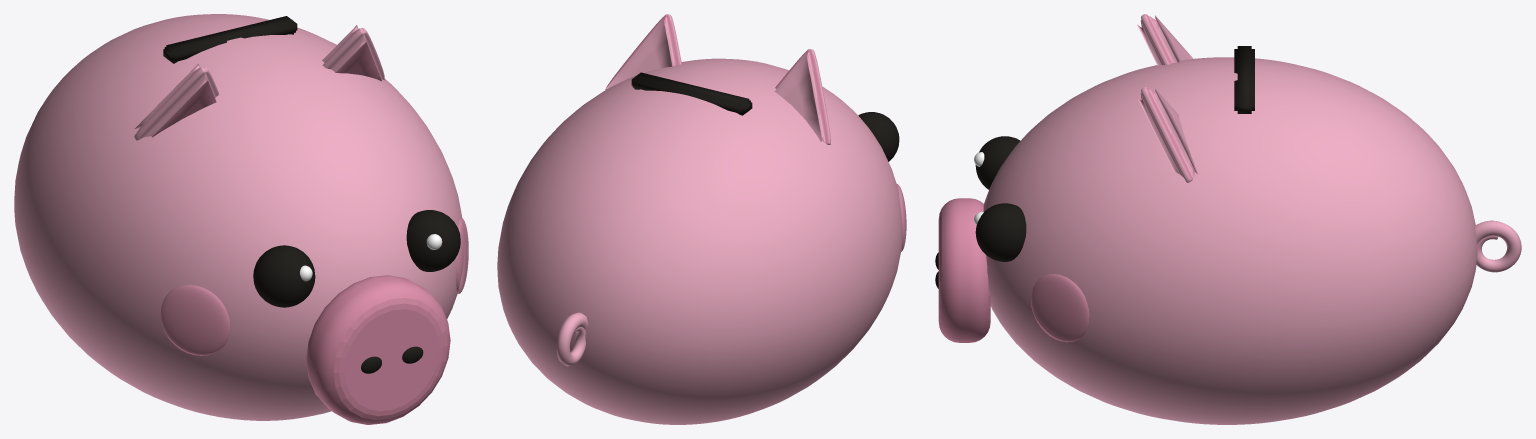
File: cofrinho.glb
3 renders of one model, left to right at view 1: azimuth 30°, elevation 25°; view 2: azimuth 150°, elevation 25°; view 3: azimuth 270°, elevation 25°, orthographic. The views are drawn at different scales.
Visible parts, largest first — view 1: Corpo, Focinho, BochechaE, OlhoE, OrelhaE, OlhoD, Fenda, OrelhaD, BochechaD; view 2: Corpo, OrelhaE, OrelhaD, Fenda, Rabo, OlhoE; view 3: Corpo, Focinho, BochechaD, OrelhaD, OlhoD, Rabo, OrelhaE, Fenda, OlhoE.
Boxes of the visible parts, <box> form: Corpo: <box>14,14,464,420</box>; Focinho: <box>306,275,450,424</box>; BochechaE: <box>160,284,229,355</box>; OlhoE: <box>253,245,315,307</box>; OrelhaE: <box>134,64,218,140</box>; OlhoD: <box>406,210,460,271</box>; Fenda: <box>163,16,297,63</box>; OrelhaD: <box>322,25,384,81</box>; BochechaD: <box>456,217,468,293</box>; Corpo: <box>497,58,902,424</box>; OrelhaE: <box>774,49,830,144</box>; OrelhaD: <box>605,14,681,89</box>; Fenda: <box>631,72,752,115</box>; Rabo: <box>556,312,588,366</box>; OlhoE: <box>858,112,899,161</box>; Corpo: <box>983,57,1477,424</box>; Focinho: <box>938,198,990,342</box>; BochechaD: <box>1031,274,1089,342</box>; OrelhaD: <box>1137,87,1198,182</box>; OlhoD: <box>975,203,1026,261</box>; Rabo: <box>1475,220,1521,272</box>; OrelhaE: <box>1137,14,1193,65</box>; Fenda: <box>1234,46,1254,113</box>; OlhoE: <box>975,136,1020,189</box>.
Bounding box in the file's own units: 2.3 × 2.25 × 3.39.
